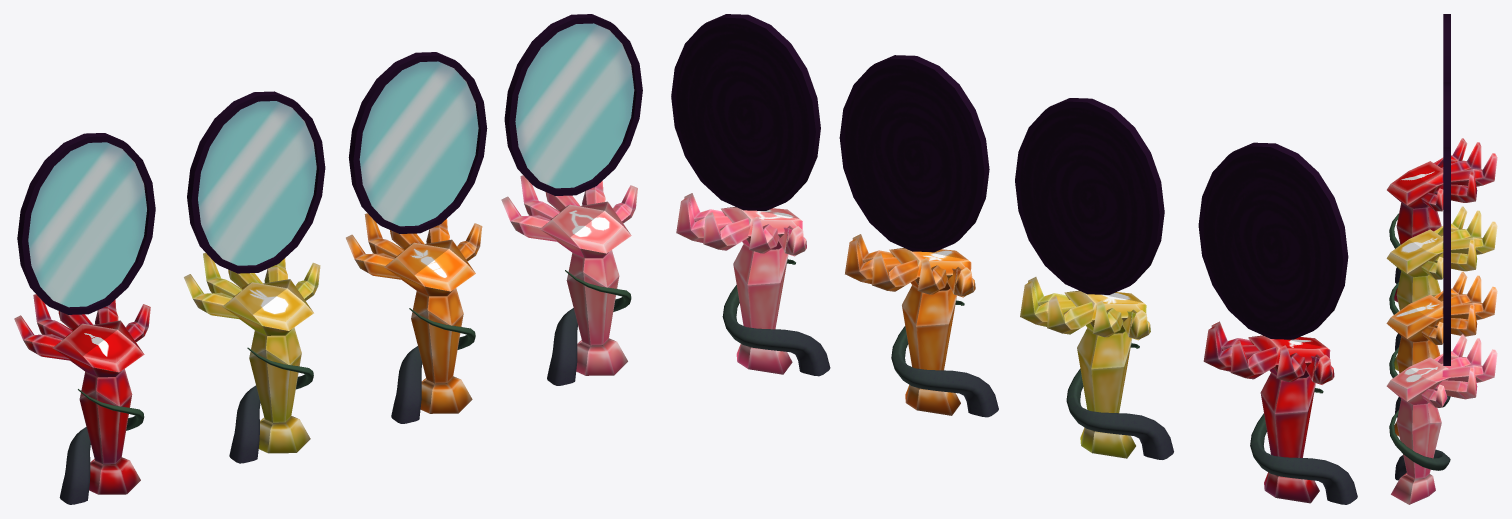
Rendered from Mirrors.fbx.
3 renders of one model, left to right at view 1: azimuth 30°, elevation 25°; view 2: azimuth 150°, elevation 25°; view 3: azimuth 270°, elevation 25°, orthographic. The views are drawn at different scales.
Visible parts, largest first — view 1: Red_Mirror_Face, Pink_Face4, Yellow_Mirror_Face, Orange_Mirror_Face, Yellow_Hand, Pink_Hand, Red_Hand, Orange_Hand; view 2: Orange_Mirror_Face, Red_Mirror_Face, Yellow_Mirror_Face, Pink_Face4, Pink_Hand, Orange_Hand, Yellow_Hand, Red_Hand; view 3: Pink_Hand, Red_Hand, Yellow_Hand, Orange_Hand, Pink_Face4, Red_Mirror_Face, Yellow_Mirror_Face, Orange_Mirror_Face.
Part boxes in pixels (left/top/right/bottom): Red_Mirror_Face: left=17, top=133, right=155, bottom=314; Pink_Face4: left=504, top=14, right=642, bottom=195; Yellow_Mirror_Face: left=187, top=91, right=325, bottom=273; Orange_Mirror_Face: left=348, top=52, right=487, bottom=233; Yellow_Hand: left=184, top=252, right=320, bottom=463; Pink_Hand: left=501, top=175, right=637, bottom=385; Red_Hand: left=14, top=294, right=150, bottom=504; Orange_Hand: left=346, top=213, right=482, bottom=423; Orange_Mirror_Face: left=839, top=55, right=989, bottom=252; Red_Mirror_Face: left=1198, top=142, right=1348, bottom=339; Yellow_Mirror_Face: left=1015, top=98, right=1164, bottom=294; Pink_Face4: left=671, top=14, right=820, bottom=210; Pink_Hand: left=676, top=193, right=830, bottom=376; Orange_Hand: left=845, top=234, right=998, bottom=417; Yellow_Hand: left=1020, top=277, right=1173, bottom=459; Red_Hand: left=1203, top=321, right=1357, bottom=504; Pink_Hand: left=1386, top=334, right=1497, bottom=504; Red_Hand: left=1387, top=138, right=1497, bottom=302; Yellow_Hand: left=1386, top=206, right=1497, bottom=370; Orange_Hand: left=1386, top=271, right=1497, bottom=436; Pink_Face4: left=1443, top=210, right=1450, bottom=365; Red_Mirror_Face: left=1443, top=14, right=1450, bottom=82; Yellow_Mirror_Face: left=1443, top=82, right=1450, bottom=147; Orange_Mirror_Face: left=1443, top=147, right=1450, bottom=210.
Size of the model in its own units: 43.43 by 22.46 by 8.15.
7 materials, 7 textured.
